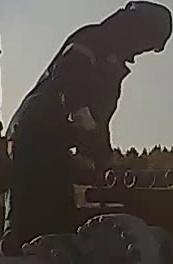vest: (5, 22, 123, 174)
